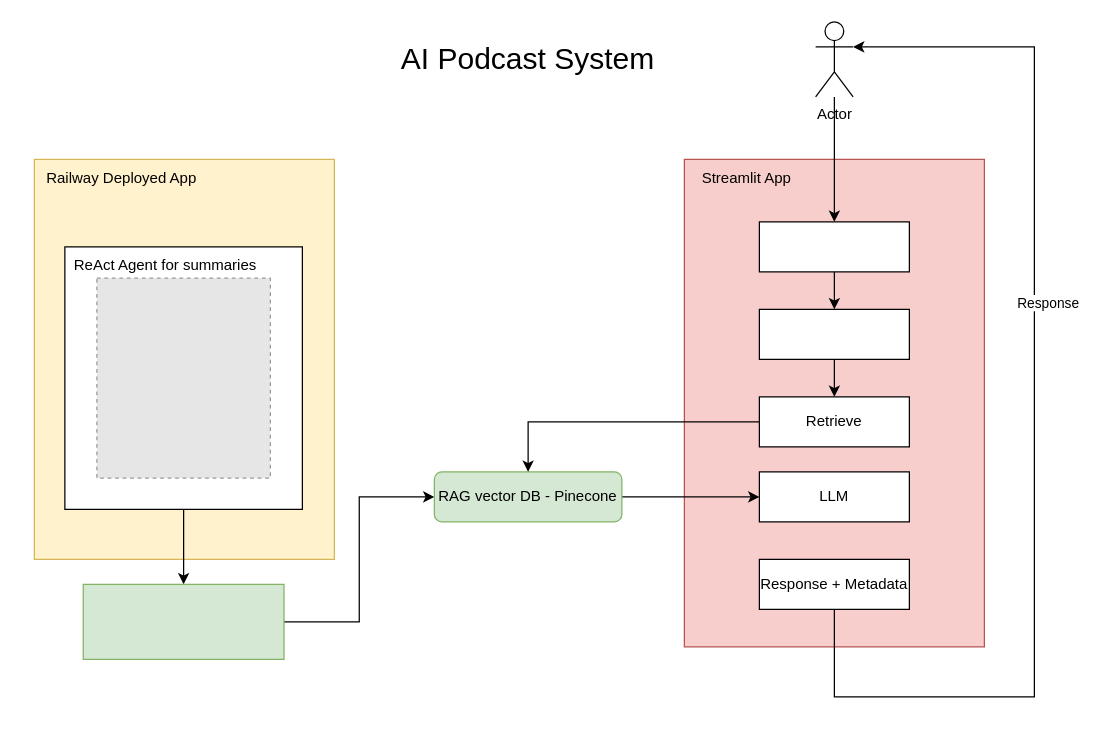
The diagram is 1100 pixels wide and 729 high, and some of its shapes have lost their labels. Grey dashed boxes stand in for pictures. The shapes that lost their labels are listed below. From the top down, each one's box as (x1, y1, x2, y2) in pixels, then its label:
(758, 221, 909, 272): User Query
(758, 308, 909, 359): Embed
(82, 583, 284, 659): Podcast Summary in MongoDB
